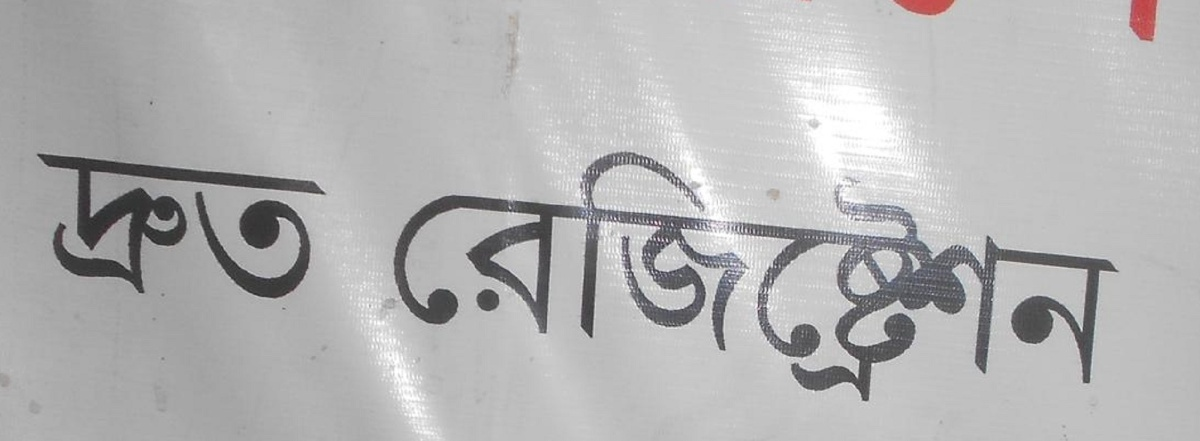text: (417, 138, 432, 433), (433, 138, 448, 433), (449, 138, 464, 433), (465, 138, 480, 433), (481, 138, 496, 433), (497, 138, 512, 433), (513, 138, 528, 433), (529, 138, 544, 433), (545, 138, 560, 433), (561, 138, 576, 433), (577, 138, 592, 433), (593, 138, 608, 433), (609, 138, 624, 433), (625, 138, 640, 433), (641, 138, 656, 433), (657, 138, 672, 433), (673, 138, 688, 433), (689, 138, 704, 433), (705, 138, 720, 433), (721, 138, 736, 433), (737, 138, 752, 433), (753, 138, 768, 433), (769, 138, 784, 433), (785, 138, 800, 433), (801, 138, 816, 433), (817, 138, 832, 433), (833, 138, 848, 433), (849, 138, 864, 433), (865, 138, 880, 433), (881, 138, 896, 433), (897, 138, 912, 433), (913, 138, 928, 433), (929, 138, 944, 433), (945, 138, 960, 433), (961, 138, 976, 433), (977, 138, 992, 433), (993, 138, 1008, 433), (1009, 138, 1024, 433), (1025, 138, 1040, 433), (1041, 138, 1056, 433), (1057, 138, 1072, 433), (1073, 138, 1088, 433), (1089, 138, 1104, 433), (1105, 138, 1120, 433), (49, 151, 64, 311), (65, 151, 80, 311), (81, 151, 96, 311), (97, 151, 112, 311), (113, 151, 128, 311), (129, 151, 144, 311), (145, 151, 160, 311), (161, 151, 176, 311), (177, 151, 192, 311), (193, 151, 208, 311), (209, 151, 224, 311), (225, 151, 240, 311), (241, 151, 256, 311), (257, 151, 272, 311), (273, 151, 288, 311), (289, 151, 304, 311), (305, 151, 320, 311), (35, 151, 48, 311), (321, 151, 327, 311), (1137, 1, 1152, 50), (1153, 1, 1167, 50), (1121, 138, 1123, 433), (1127, 1, 1136, 50), (897, 1, 912, 16), (913, 1, 928, 16), (929, 1, 944, 16), (945, 1, 959, 16), (891, 1, 896, 16)
